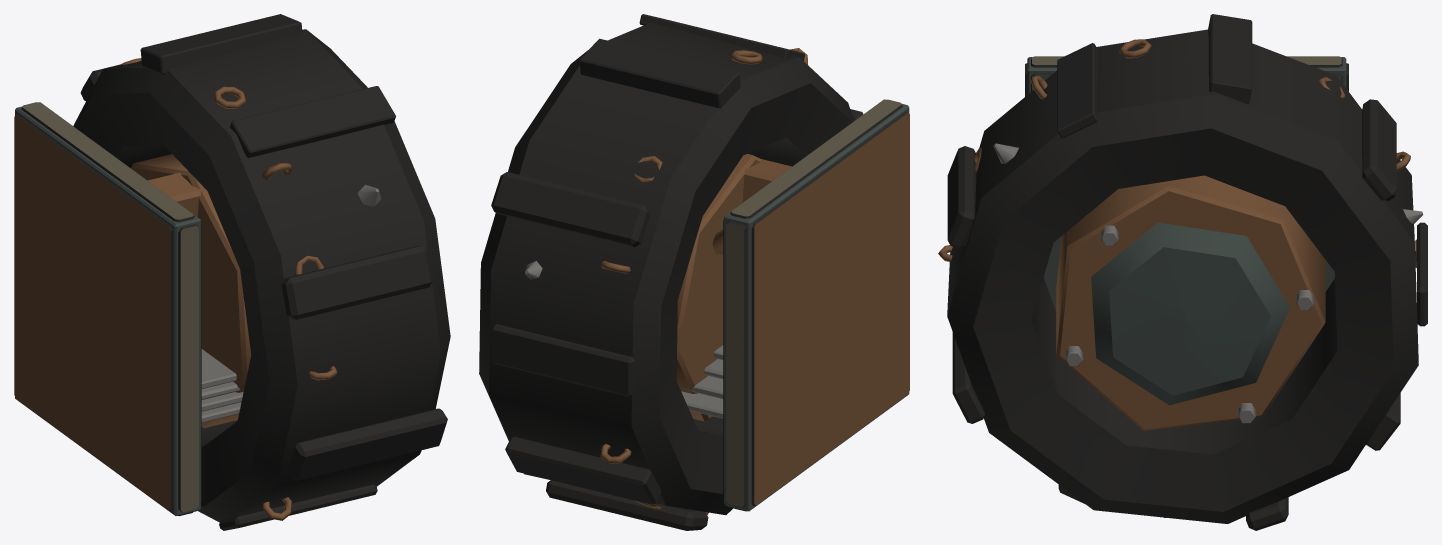
File: R4M_WheelM_Side_Offroad.fbx
The picture shows the model from 3 angles, left to right: view 1: azimuth 30°, elevation 25°; view 2: azimuth 150°, elevation 25°; view 3: azimuth 270°, elevation 25°; orthographic projection.
Parts seen in each view (by area): view 1: R4M_WheelM_Side_Offroad_Rotor, R4M_WheelM_Side_Offroad_Mount; view 2: R4M_WheelM_Side_Offroad_Rotor, R4M_WheelM_Side_Offroad_Mount; view 3: R4M_WheelM_Side_Offroad_Rotor, R4M_WheelM_Side_Offroad_Mount.
Part boxes in pixels (x1=…): R4M_WheelM_Side_Offroad_Rotor: x1=73, y1=14, x2=450, y2=530; R4M_WheelM_Side_Offroad_Mount: x1=14, y1=102, x2=243, y2=516; R4M_WheelM_Side_Offroad_Rotor: x1=479, y1=14, x2=863, y2=530; R4M_WheelM_Side_Offroad_Mount: x1=680, y1=99, x2=909, y2=511; R4M_WheelM_Side_Offroad_Rotor: x1=938, y1=14, x2=1427, y2=530; R4M_WheelM_Side_Offroad_Mount: x1=1025, y1=56, x2=1348, y2=311.
Bounding box in the file's own units: 0.448 × 0.7697 × 0.756.
